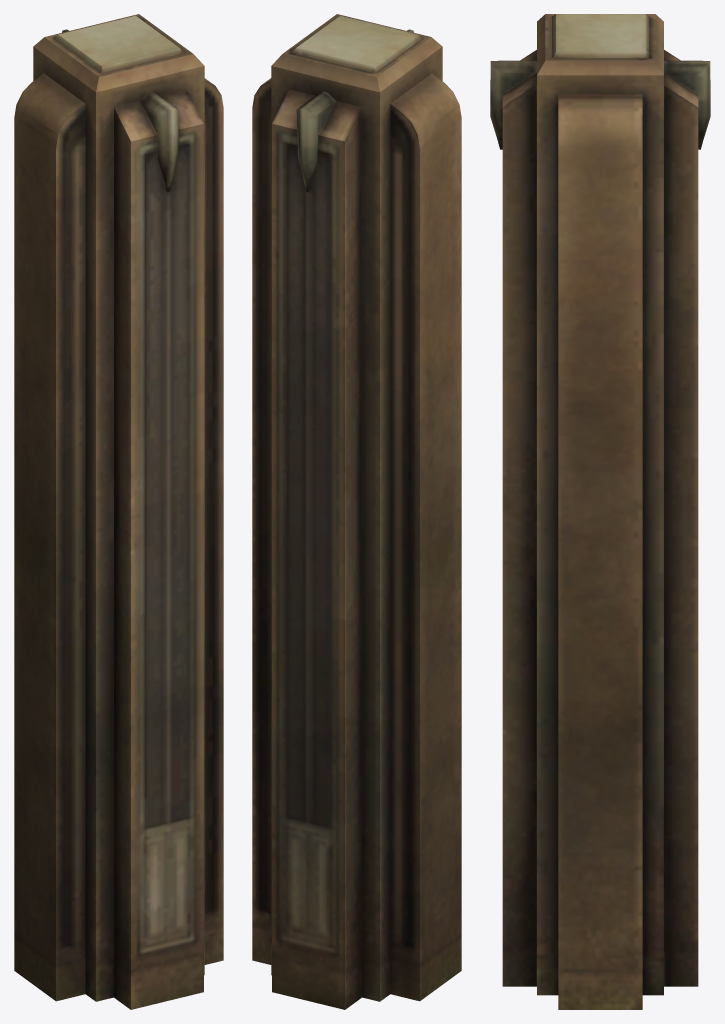
The model's file is Gate_01_FencePost.obj.
3 renders of one model, left to right at view 1: azimuth 30°, elevation 25°; view 2: azimuth 150°, elevation 25°; view 3: azimuth 270°, elevation 25°, orthographic.
Parts seen in each view (by area): view 1: Gate_01_FencePost; view 2: Gate_01_FencePost; view 3: Gate_01_FencePost.
Boxes of the visible parts, <box> form: Gate_01_FencePost: <box>14,14,223,1009</box>; Gate_01_FencePost: <box>252,14,461,1009</box>; Gate_01_FencePost: <box>490,14,710,1009</box>.
Size of the model in its own units: 37.03 by 195 by 41.71.
Materials: 1 (1 with a texture image).
